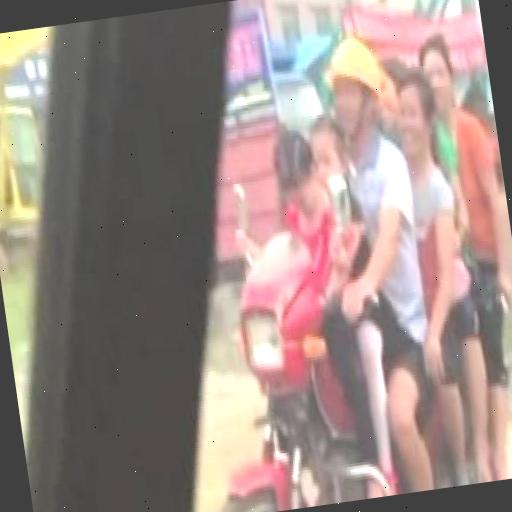no helmet: (318, 37, 410, 189)
triple riding: (206, 14, 512, 512)
